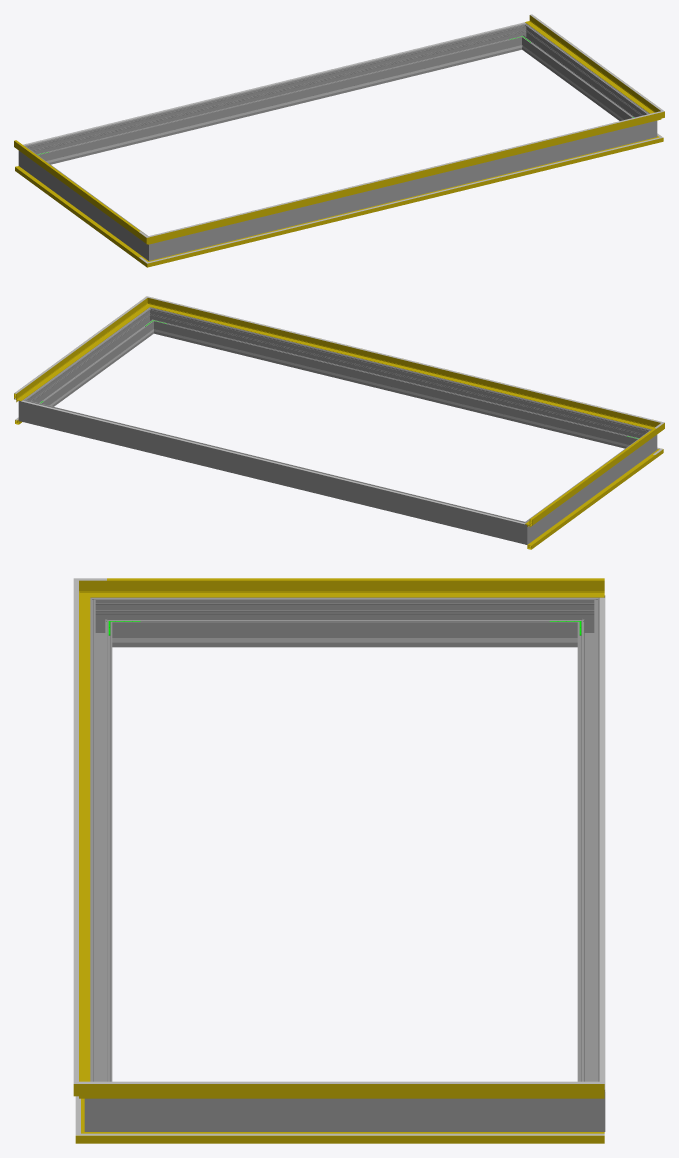
3 views of the same model, one above another, from view 1: azimuth 30°, elevation 25°; view 2: azimuth 150°, elevation 25°; view 3: azimuth 270°, elevation 25° (orthographic). The views are drawn at different scales.
Parts seen in each view (by area): view 1: 3DGeom-276, 3DGeom-298, 3DGeom-56, 3DGeom-297, 3DGeom-11, 3DGeom-268, 3DGeom-58, 3DGeom-244, 3DGeom-220, 3DGeom-66, 3DGeom-20, 3DGeom-50 (+2 smaller); view 2: 3DGeom-298, 3DGeom-276, 3DGeom-56, 3DGeom-297, 3DGeom-268, 3DGeom-58, 3DGeom-239, 3DGeom-220, 3DGeom-66, 3DGeom-50, 3DGeom-6, 3DGeom-278; view 3: 3DGeom-268, 3DGeom-297, 3DGeom-276, 3DGeom-298, 3DGeom-50, 3DGeom-58, 3DGeom-56, 3DGeom-16, 3DGeom-220, 3DGeom-66, 3DGeom-232, 3DGeom-64 (+6 smaller).
Boxes of the visible parts, box(x1,y1,x2,y2) form: 3DGeom-276: box(34, 26, 519, 164); 3DGeom-298: box(163, 124, 642, 257); 3DGeom-56: box(159, 115, 650, 241); 3DGeom-297: box(523, 28, 646, 120); 3DGeom-11: box(159, 139, 649, 263); 3DGeom-268: box(27, 150, 144, 254); 3DGeom-58: box(525, 15, 654, 113); 3DGeom-244: box(51, 48, 508, 162); 3DGeom-220: box(23, 22, 525, 145); 3DGeom-66: box(160, 114, 649, 234); 3DGeom-20: box(160, 140, 648, 259); 3DGeom-50: box(14, 141, 138, 237); 3DGeom-298: box(156, 310, 641, 448); 3DGeom-276: box(33, 402, 515, 541); 3DGeom-56: box(157, 300, 649, 427); 3DGeom-297: box(29, 312, 152, 406); 3DGeom-268: box(531, 434, 648, 538); 3DGeom-58: box(14, 303, 145, 402); 3DGeom-239: box(167, 332, 624, 445); 3DGeom-220: box(21, 400, 525, 524); 3DGeom-66: box(160, 299, 649, 419); 3DGeom-50: box(525, 429, 656, 527); 3DGeom-6: box(527, 454, 655, 549); 3DGeom-278: box(513, 518, 535, 544); 3DGeom-268: box(118, 597, 572, 647); 3DGeom-297: box(118, 1098, 572, 1131); 3DGeom-276: box(577, 609, 599, 1081); 3DGeom-298: box(90, 609, 112, 1081); 3DGeom-50: box(106, 580, 604, 597); 3DGeom-58: box(106, 1084, 604, 1098); 3DGeom-56: box(79, 603, 90, 1081); 3DGeom-16: box(109, 1132, 604, 1143); 3DGeom-220: box(600, 597, 605, 1089); 3DGeom-66: box(73, 592, 78, 1069); 3DGeom-232: box(144, 638, 545, 642); 3DGeom-64: box(107, 1081, 604, 1083).
Size of the model in its own units: 5.49 by 0.307 by 2.44.
